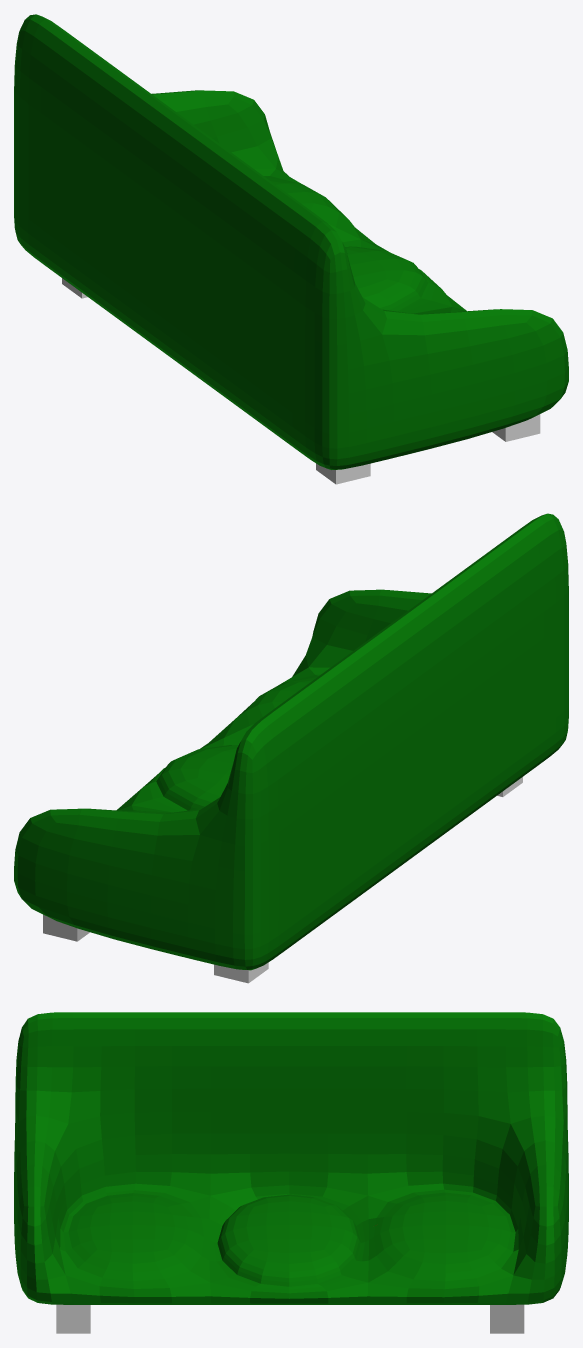
The model's file is Sofa3.fbx.
3 views of the same model, one above another, from view 1: azimuth 30°, elevation 25°; view 2: azimuth 150°, elevation 25°; view 3: azimuth 270°, elevation 25° (orthographic). The views are drawn at different scales.
Parts seen in each view (by area): view 1: Cube.004, Cube.003, Cube; view 2: Cube.004, Cube.002, Cube.001; view 3: Cube.004, Cube.002, Cube.003.
Boxes of the visible parts, x1,y1,x2,y2 form: Cube.004: [14, 14, 568, 469]; Cube.003: [492, 414, 540, 441]; Cube: [316, 463, 370, 484]; Cube.004: [14, 513, 568, 970]; Cube.002: [43, 914, 89, 941]; Cube.001: [214, 962, 268, 983]; Cube.004: [14, 1012, 568, 1304]; Cube.002: [490, 1304, 524, 1333]; Cube.003: [56, 1304, 90, 1333].
Bounding box in the file's own units: 414 × 409 × 897.
